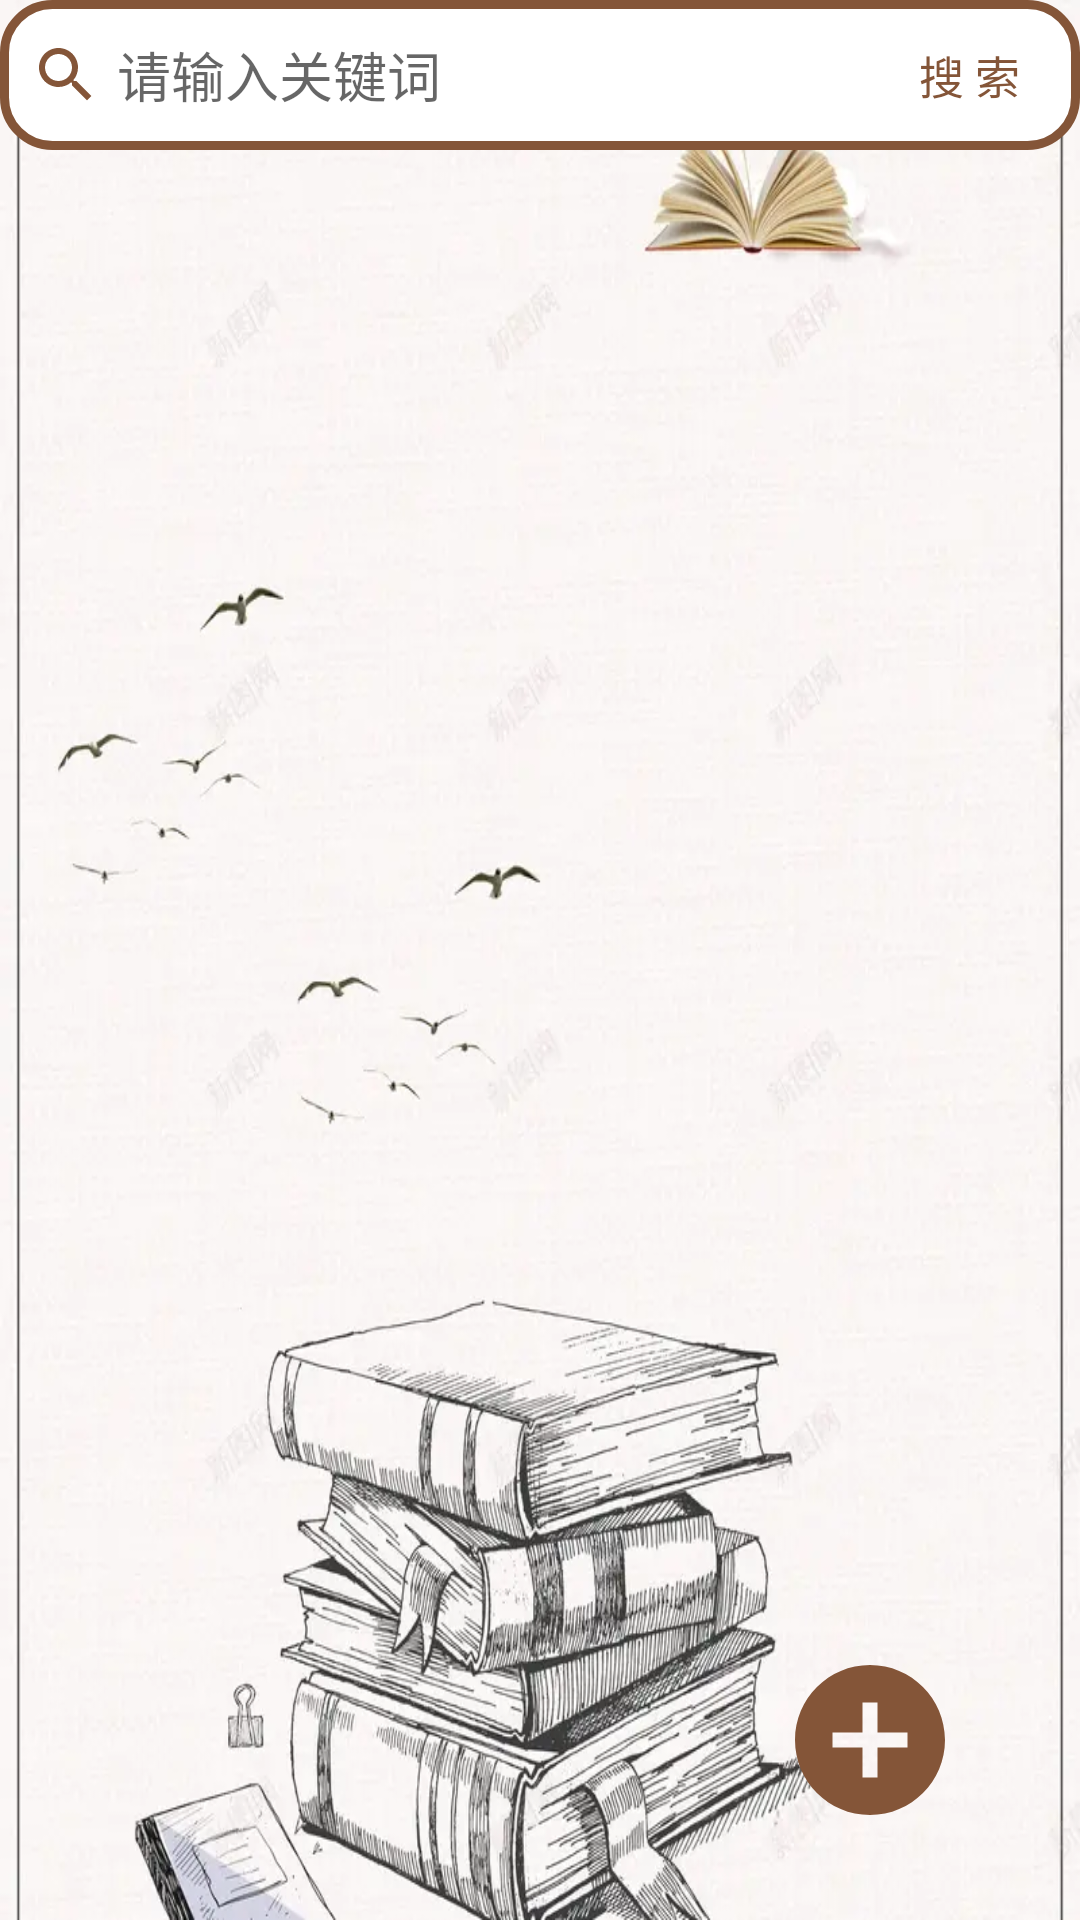

Screen size 1080x1920. Icon name, then its center in pixels as point (x, y):
add: point (862, 1740)
